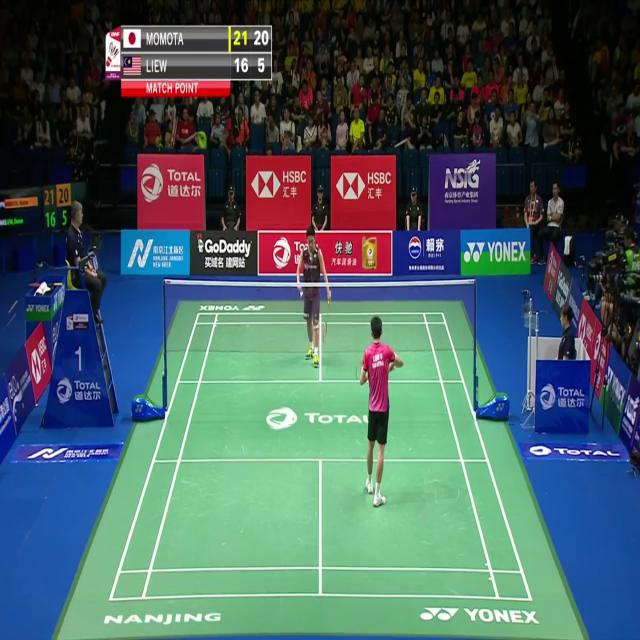Shuttlecock: (298, 288, 304, 300)
